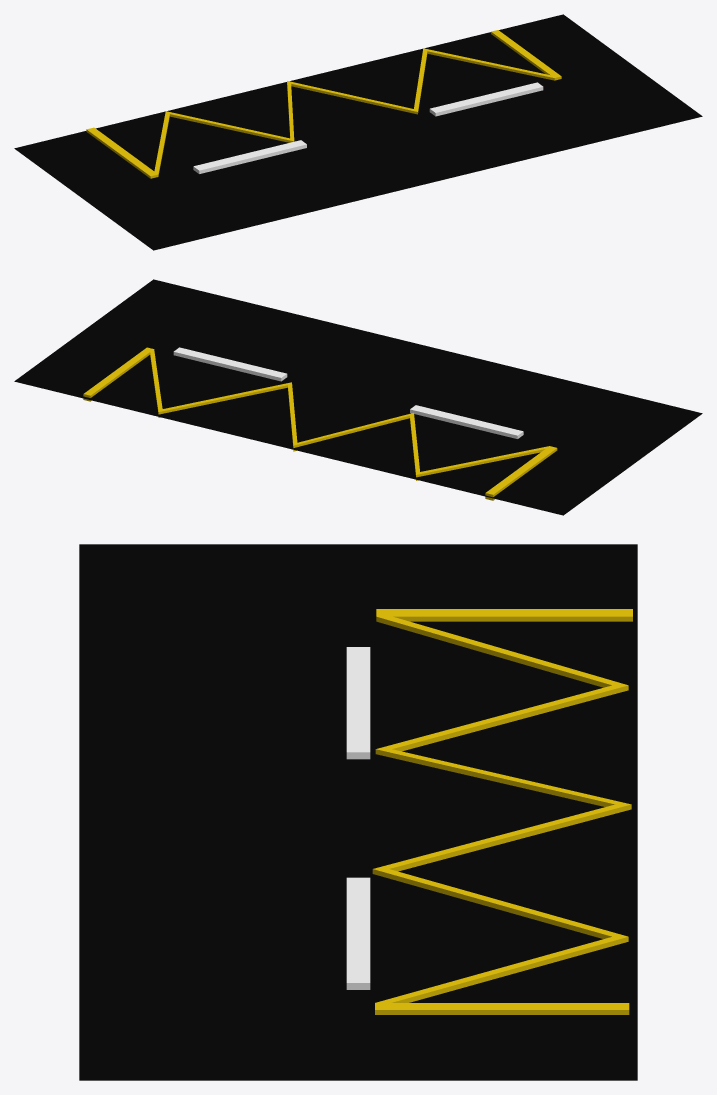
Rendered from road_2x1_stop.obj.
3 renders of one model, top to bottom at view 1: azimuth 30°, elevation 25°; view 2: azimuth 150°, elevation 25°; view 3: azimuth 270°, elevation 25°, orthographic. The views are drawn at different scales.
Visible parts, largest first — view 1: Plane01, Box01; view 2: Plane01, Box01; view 3: Plane01, Box01.
Part boxes in pixels (<box>): Plane01: <box>14,14,702,250</box>; Box01: <box>86,30,561,178</box>; Plane01: <box>14,279,702,515</box>; Box01: <box>83,347,557,500</box>; Plane01: <box>79,544,637,1080</box>; Box01: <box>372,609,632,1014</box>.
Bounding box in the file's own units: 25 × 0.3804 × 11.
